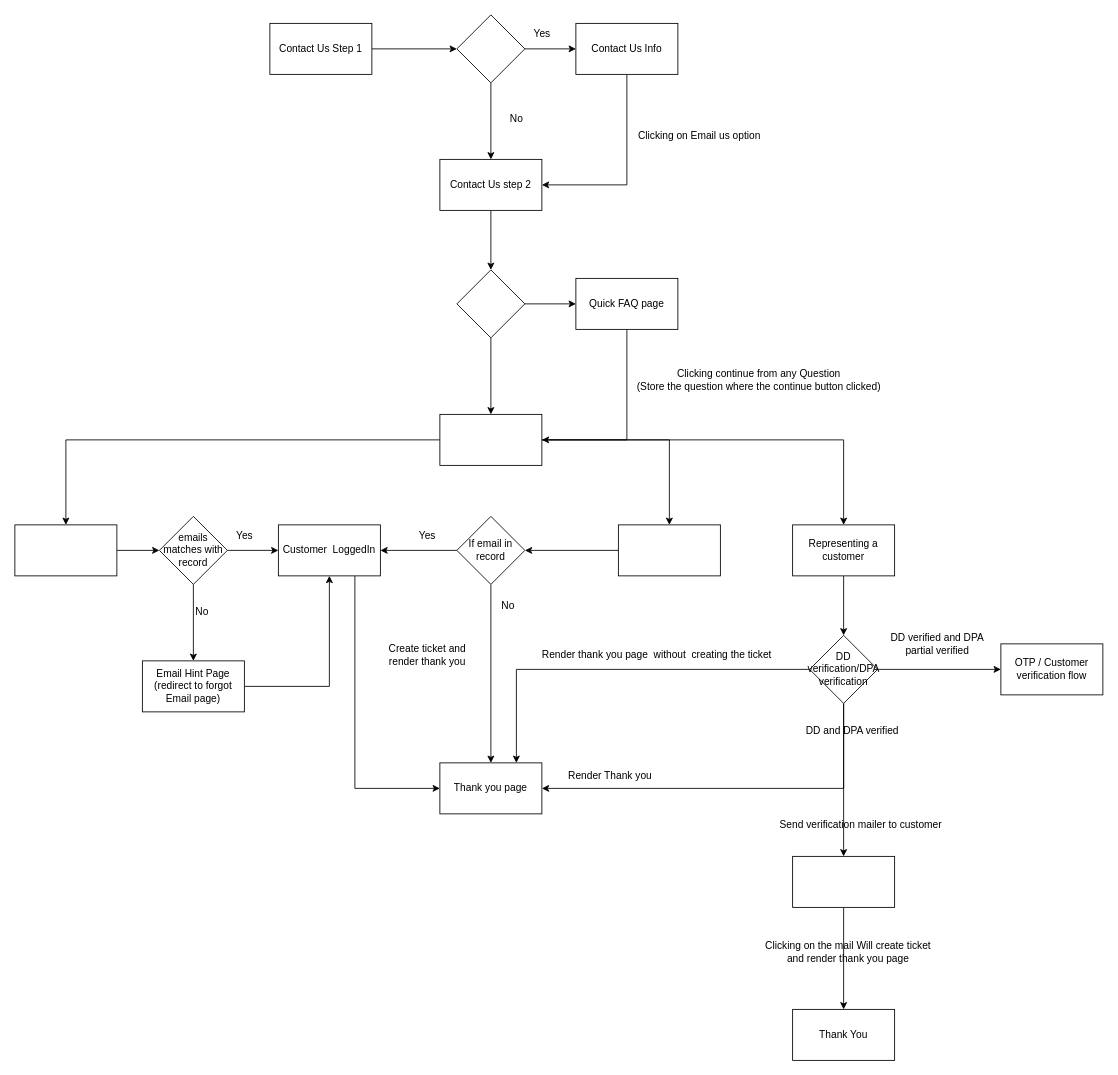
Image size: 1118x1075. Some labels were removed from this diagram. The shapes that lost their labels are listed below. From the top down, each one's centre as x and y in pixels, then its label:
the point at 490,48: If choses a customer/logged in
the point at 490,303: A customer and choses Complaint
the point at 490,439: Proceed to fill details
the point at 65,550: Customer Without login
the point at 669,550: Not a customer
the point at 843,881: Send Confirmation mailer
